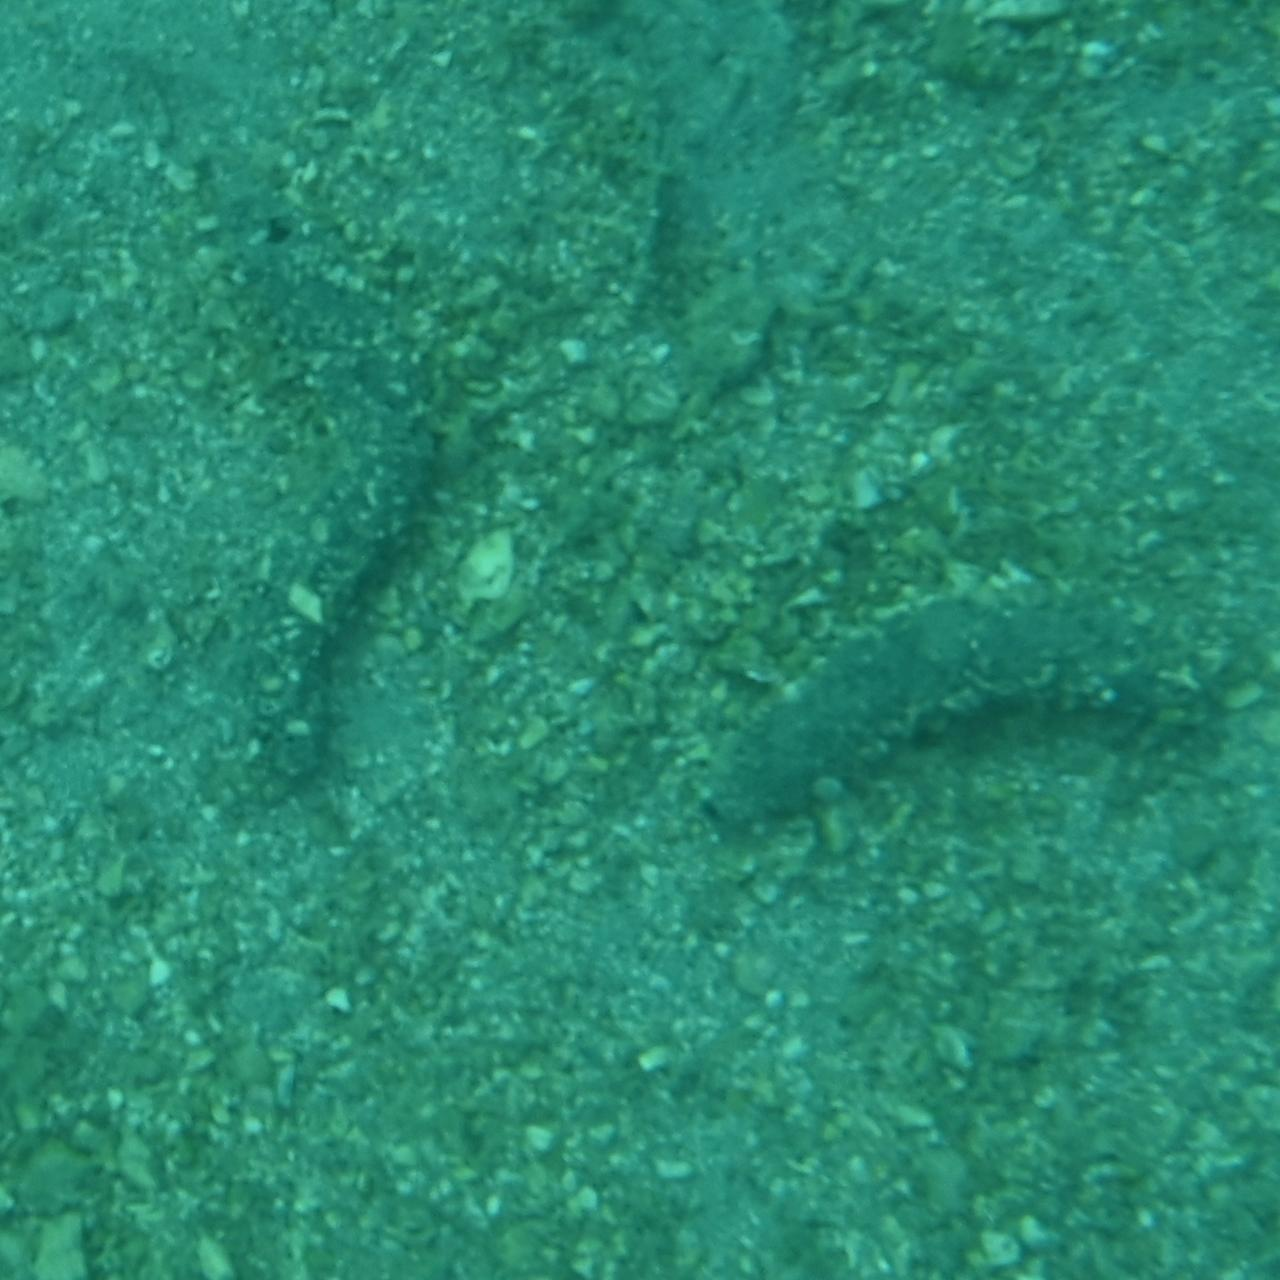Holothuria tubulosa: (689, 572, 1257, 851), (204, 287, 410, 849)
